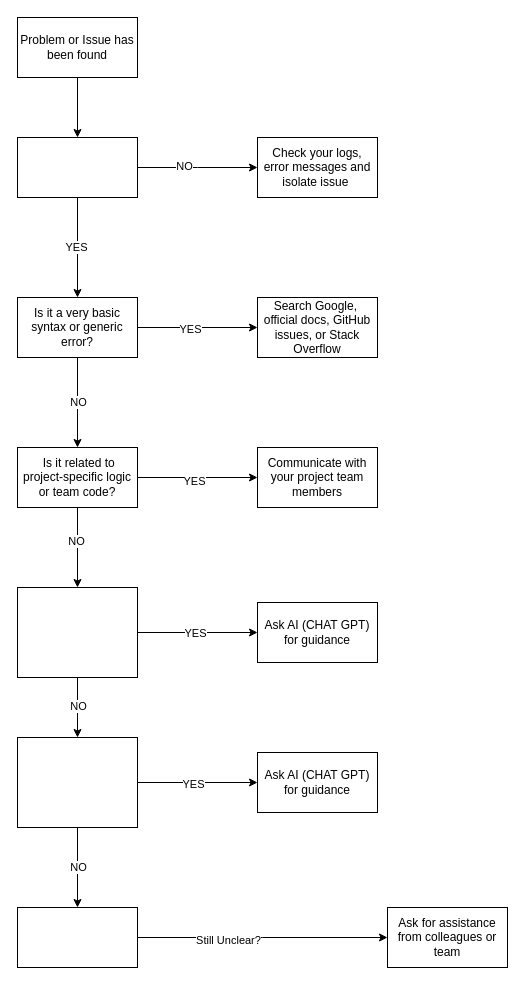
Image size: 525x985. Some labels were removed from this diagram. Here are the shapes that lost their labels. From the top down, the box of each, then its label:
(16, 136, 138, 198): Is the problem easy to understand and reproduce?
(16, 586, 138, 678): Does the problem need explanation? Is the problem hard to grasp conceptually?
(16, 736, 138, 828): Is the problem extremely urgent or blocking progress?
(16, 906, 138, 968): Conitnue researching and testing
